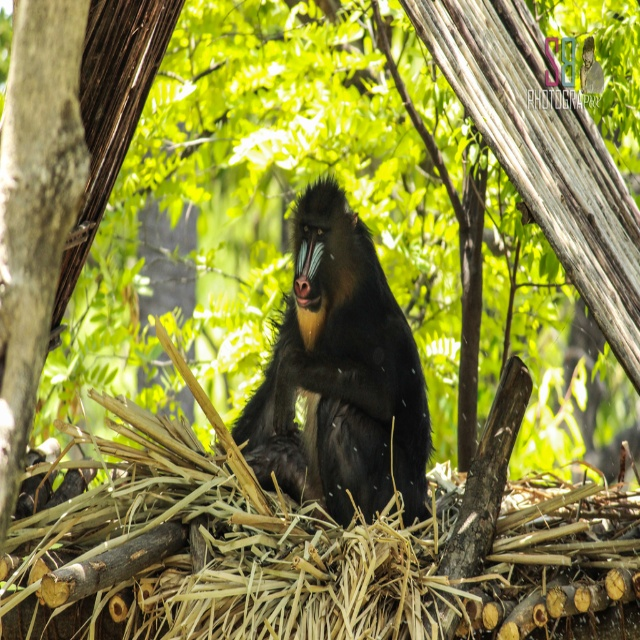Monkey: (230, 177, 433, 530)
